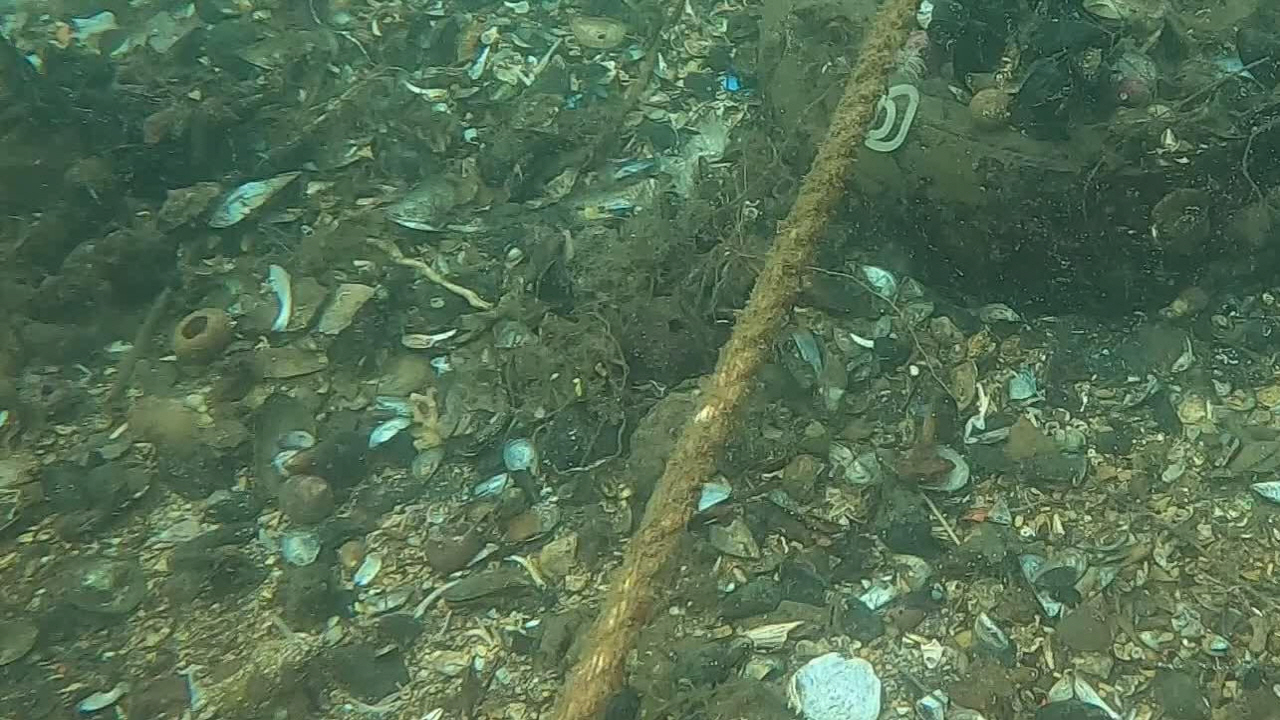rope: (543, 1, 923, 720)
